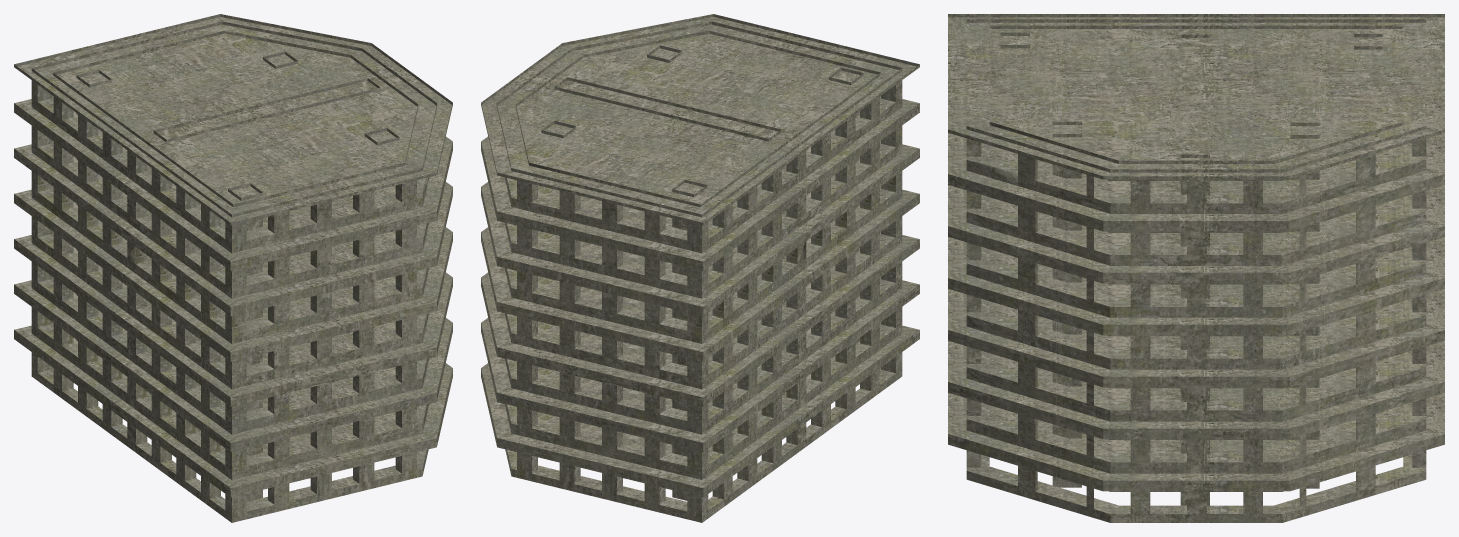
The picture shows the model from 3 angles, left to right: view 1: azimuth 30°, elevation 25°; view 2: azimuth 150°, elevation 25°; view 3: azimuth 270°, elevation 25°; orthographic projection. The views are drawn at different scales.
Visible parts, largest first — view 1: Cube.002_0; view 2: Cube.002_0; view 3: Cube.002_0.
Boxes of the visible parts, <box> form: Cube.002_0: <box>14,14,452,522</box>; Cube.002_0: <box>481,14,919,522</box>; Cube.002_0: <box>948,14,1444,522</box>.
Size of the model in its own units: 2.92 by 2.97 by 3.78.
1 material, 1 textured.
